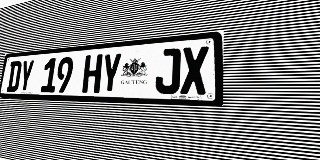1: (40, 58, 59, 93)
9: (55, 56, 74, 93)
D: (6, 61, 22, 92)
H: (82, 54, 103, 93)
J: (155, 48, 181, 94)
X: (180, 46, 209, 95)
Y: (100, 53, 122, 93), (18, 60, 35, 92)
